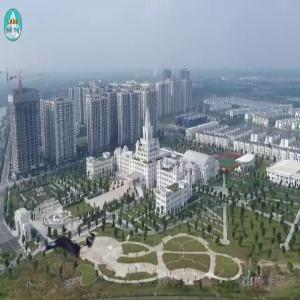drone: (35, 224, 91, 280)
